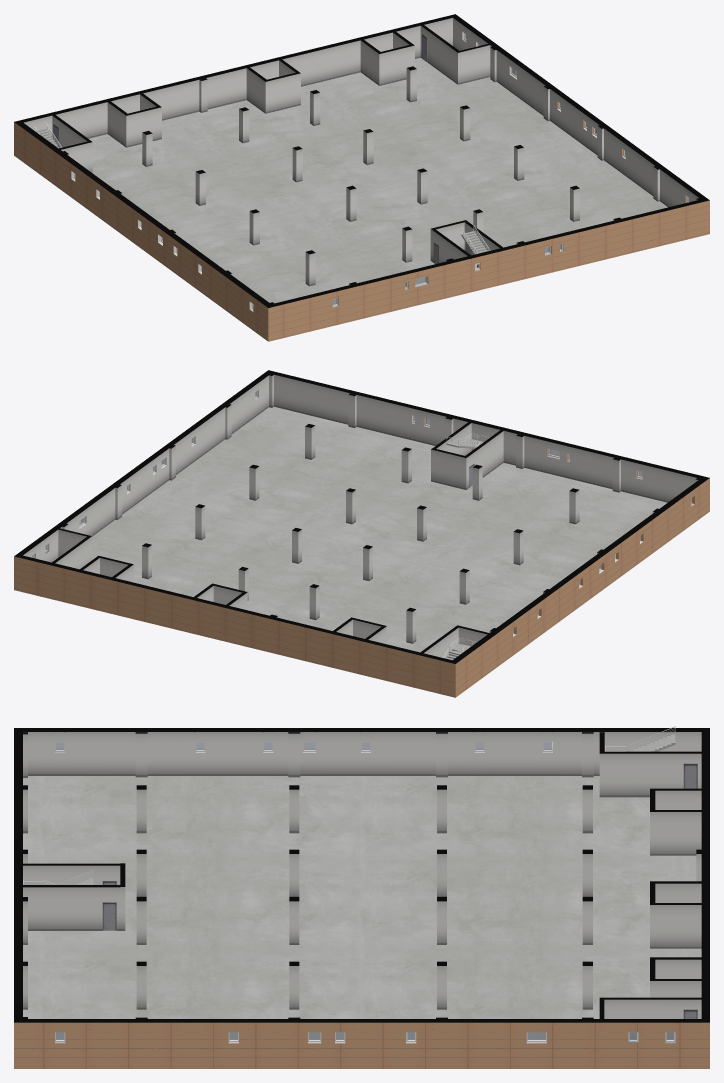
3 views of the same model, one above another, from view 1: azimuth 30°, elevation 25°; view 2: azimuth 150°, elevation 25°; view 3: azimuth 270°, elevation 25° (orthographic). The views are drawn at different scales.
Visible parts, largest first — view 1: Line1555, Polyline004, Rectangle2386; view 2: Line1555, Polyline004; view 3: Line1555, Polyline004, Rectangle2386, Box2073.
Boxes of the visible parts, x1,y1,x2,y2 form: Line1555: (88,57,667,303); Polyline004: (14,14,709,341); Rectangle2386: (74,33,689,308); Line1555: (92,406,667,652); Polyline004: (14,370,709,697); Line1555: (23,776,701,1039); Polyline004: (14,728,709,1068); Rectangle2386: (55,741,675,1042); Box2073: (102,763,697,1018).
Size of the model in its own units: 41.1 by 3.41 by 41.02.
7 materials, 4 textured.
